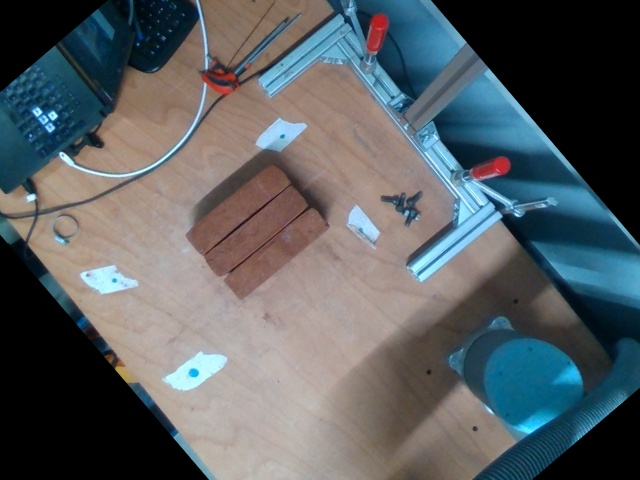brick-side: (223, 205, 330, 301), (182, 161, 290, 256), (202, 184, 310, 278)
